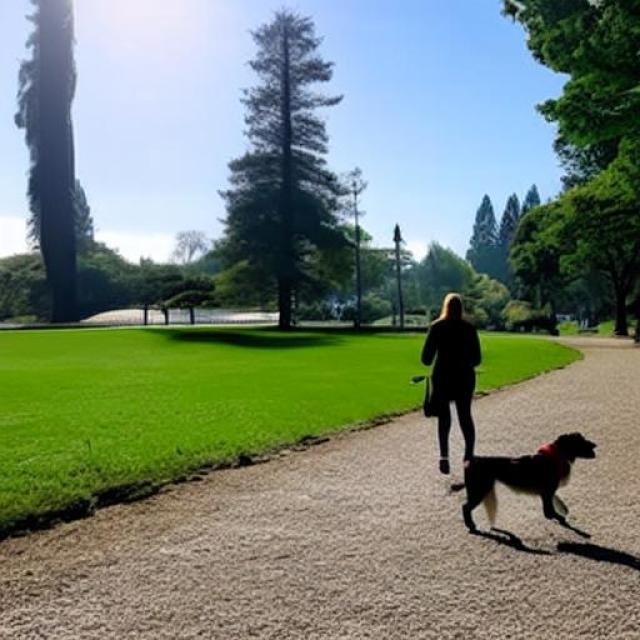Unleashed_Dog: (430, 366, 598, 541)
